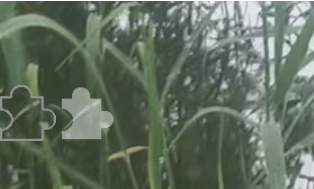target: (60, 84, 118, 144)
